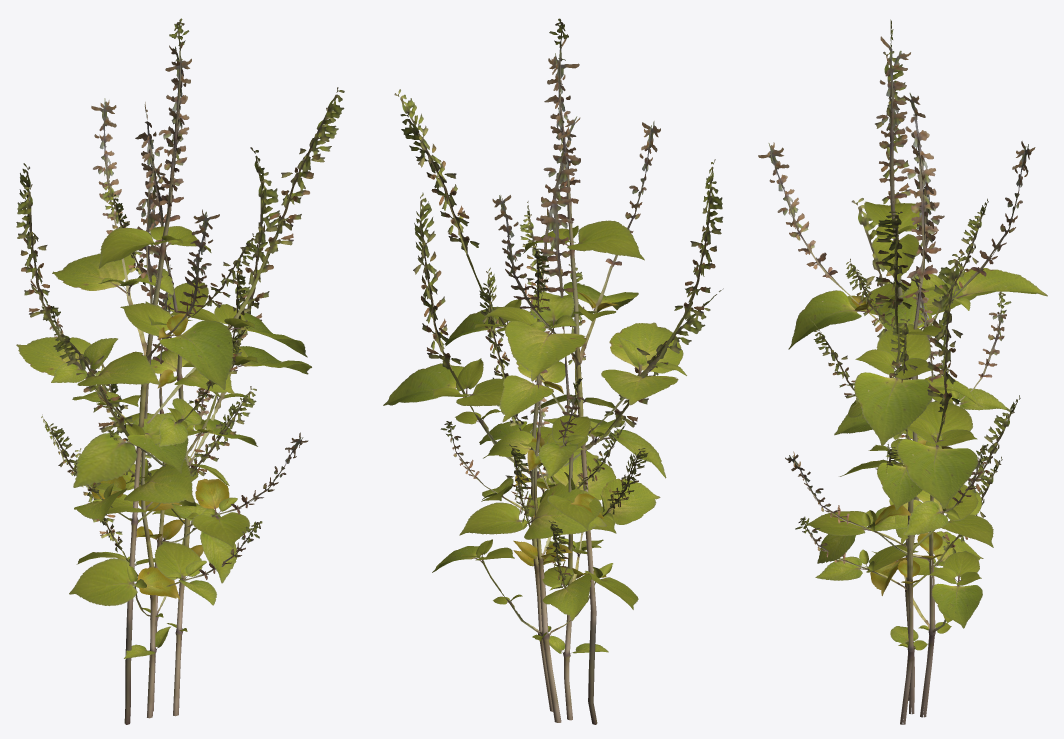
Rendered from shrub-03.glb.
3 renders of one model, left to right at view 1: azimuth 30°, elevation 25°; view 2: azimuth 150°, elevation 25°; view 3: azimuth 270°, elevation 25°, orthographic. The views are drawn at different scales.
Visible parts, largest first — view 1: shrub_03_a, shrub_03_b, shrub_03_c, shrub_03_d; view 2: shrub_03_a, shrub_03_b, shrub_03_c, shrub_03_d; view 3: shrub_03_a, shrub_03_b, shrub_03_c, shrub_03_d.
Part boxes in pixels (bbox=[...]): shrub_03_a: bbox=[16, 18, 344, 724]; shrub_03_b: bbox=[47, 102, 311, 716]; shrub_03_c: bbox=[47, 176, 262, 718]; shrub_03_d: bbox=[69, 265, 237, 711]; shrub_03_a: bbox=[394, 18, 723, 724]; shrub_03_b: bbox=[383, 116, 723, 711]; shrub_03_c: bbox=[479, 199, 619, 720]; shrub_03_d: bbox=[432, 277, 638, 722]; shrub_03_a: bbox=[758, 19, 1047, 700]; shrub_03_b: bbox=[785, 93, 1020, 724]; shrub_03_c: bbox=[795, 182, 1011, 714]; shrub_03_d: bbox=[817, 276, 988, 717].
Size of the model in its own units: 0.2006 by 0.4028 by 0.1512.
4 materials, 4 textured.
